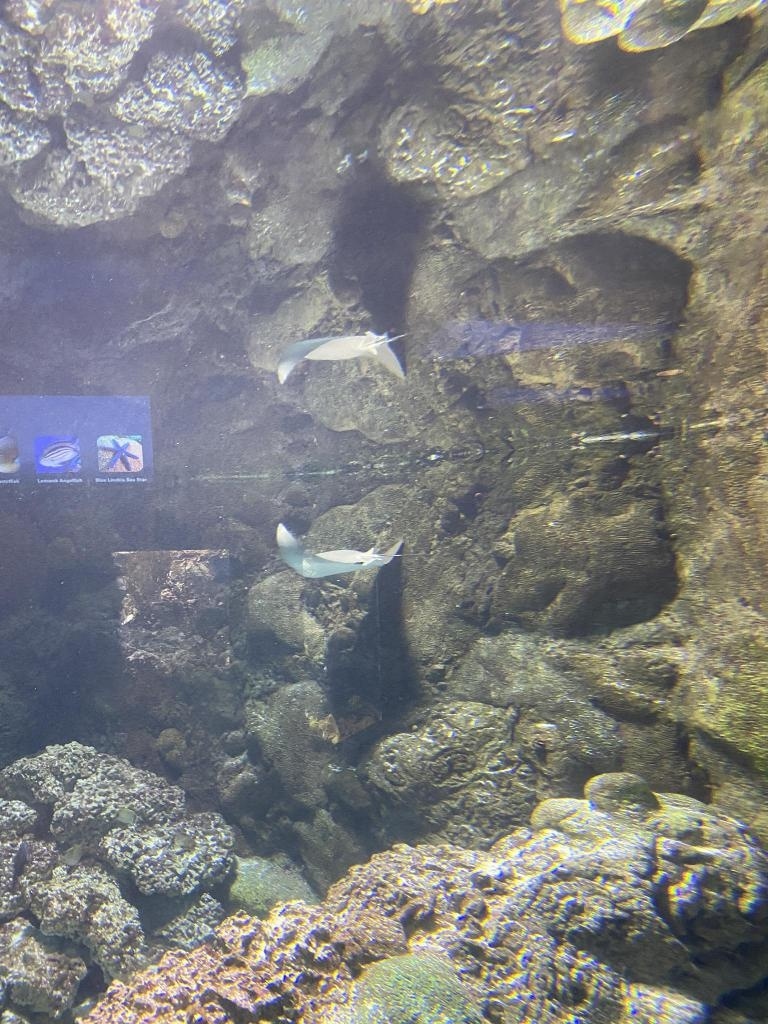stingray: (276, 522, 404, 576), (278, 333, 406, 385)
